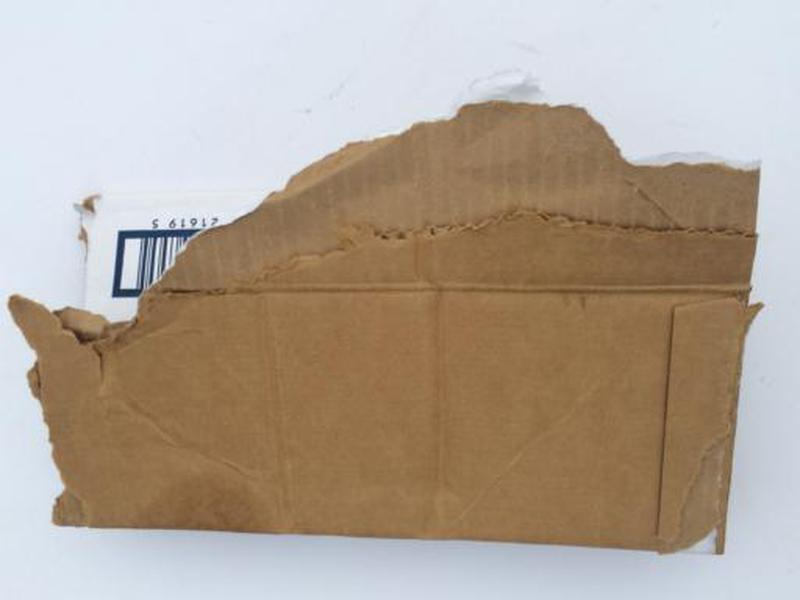cardboard: (7, 79, 776, 572)
